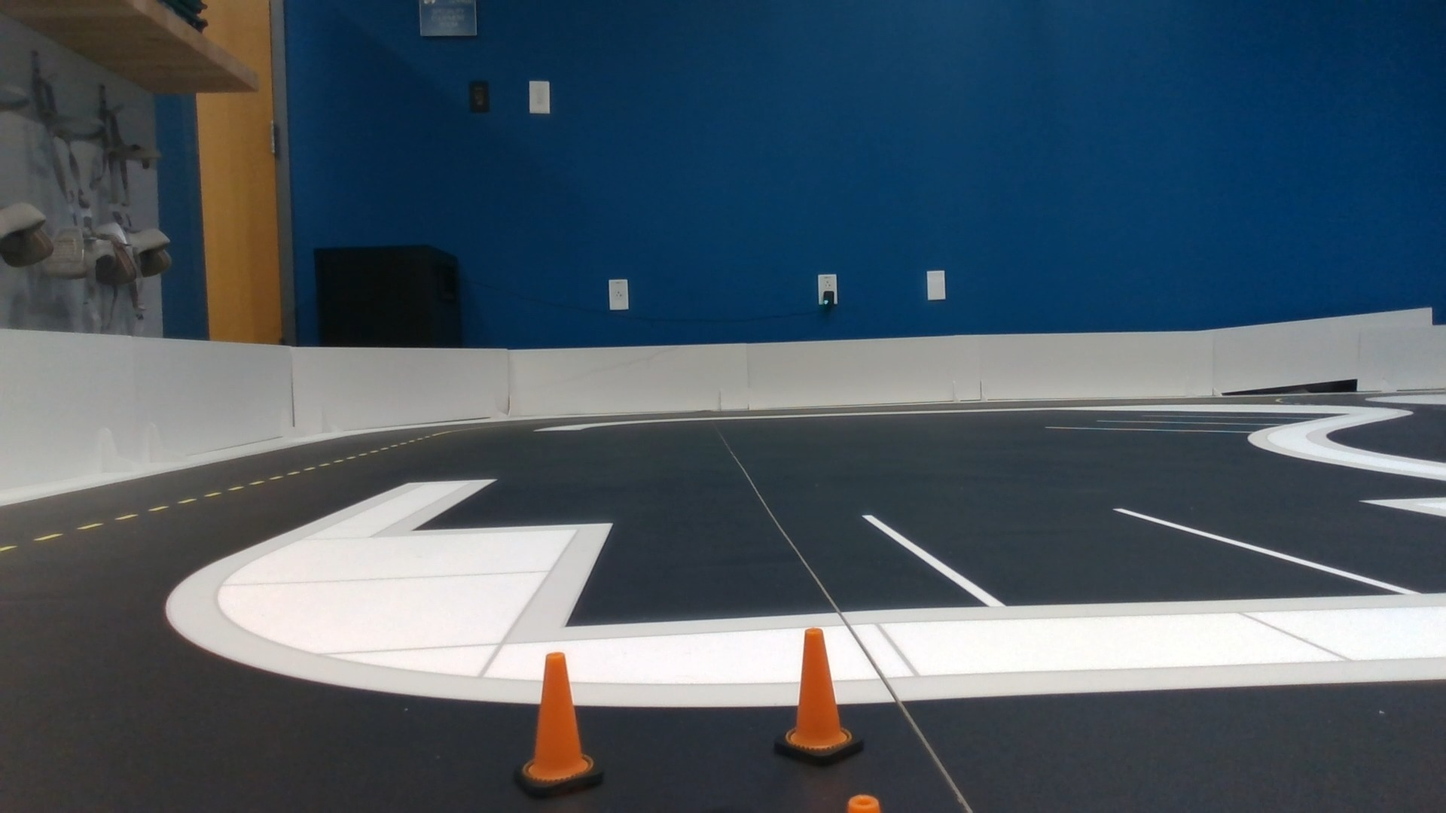Traffic Cone: (515, 653, 602, 796), (775, 628, 862, 764), (847, 795, 880, 812)
